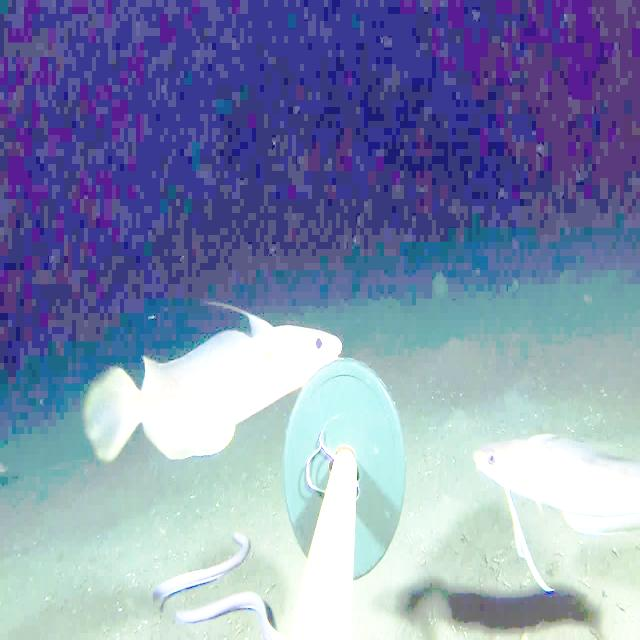eel: (132, 517, 253, 629), (170, 575, 289, 639)
fish: (53, 260, 348, 492), (476, 422, 637, 534)
pole: (279, 355, 408, 639)
